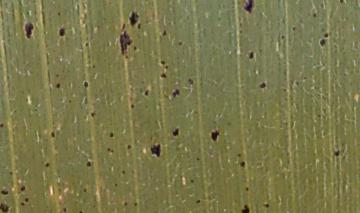tarspot: (118, 30, 133, 58), (127, 10, 141, 28), (22, 21, 35, 40), (150, 142, 161, 159), (242, 1, 255, 15), (209, 129, 220, 142), (57, 27, 67, 38), (240, 203, 250, 213), (171, 88, 181, 98), (1, 202, 10, 213), (171, 127, 180, 137), (319, 37, 327, 48), (159, 71, 168, 80), (258, 81, 266, 91), (260, 201, 270, 209), (247, 49, 254, 60), (333, 149, 341, 158), (186, 77, 194, 86), (194, 197, 202, 206), (89, 110, 97, 119), (85, 159, 92, 169), (49, 130, 57, 138), (158, 58, 166, 66), (119, 168, 127, 176), (106, 146, 114, 154), (55, 10, 63, 18), (239, 160, 246, 169), (82, 80, 89, 89), (1, 189, 10, 196), (143, 88, 150, 97), (131, 44, 139, 51), (120, 22, 127, 30), (54, 82, 62, 89), (108, 130, 115, 138), (126, 143, 133, 151), (81, 186, 88, 194), (235, 151, 242, 159), (161, 28, 167, 37), (136, 22, 142, 31), (19, 184, 25, 193), (123, 199, 129, 208), (188, 177, 195, 184), (194, 155, 201, 162), (61, 206, 68, 213), (83, 41, 90, 48), (90, 62, 97, 69), (7, 169, 14, 176), (44, 161, 50, 169), (129, 102, 135, 110), (244, 185, 250, 193), (113, 181, 119, 189), (291, 25, 297, 32), (280, 34, 286, 41), (177, 40, 183, 47), (19, 200, 26, 206), (54, 72, 60, 79), (293, 80, 300, 86), (302, 75, 309, 81), (66, 98, 73, 104), (312, 11, 317, 19), (323, 32, 329, 38), (281, 87, 287, 93), (133, 200, 138, 207), (24, 196, 29, 202), (338, 1, 345, 5), (1, 122, 5, 128), (78, 209, 83, 213)
